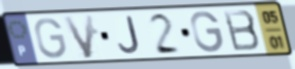2: (146, 13, 182, 56)
B: (220, 8, 263, 53)
G: (188, 9, 225, 54), (33, 16, 69, 60)
J: (116, 14, 143, 56)
V: (60, 13, 96, 61)
